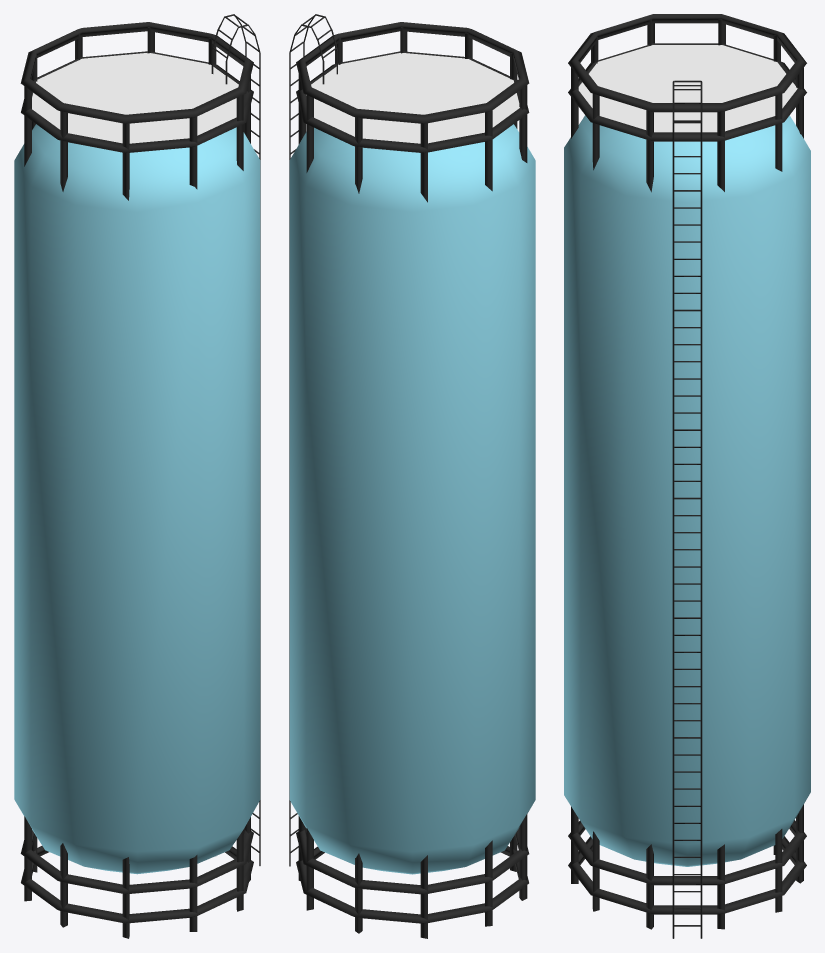
The model's file is FactorySilo.FBX.
3 renders of one model, left to right at view 1: azimuth 30°, elevation 25°; view 2: azimuth 150°, elevation 25°; view 3: azimuth 270°, elevation 25°, orthographic.
Visible parts, largest first — view 1: FactorySilio; view 2: FactorySilio; view 3: FactorySilio.
Part boxes in pixels (x1,y1,x2,y2): FactorySilio: (14, 14, 260, 938); FactorySilio: (289, 14, 535, 938); FactorySilio: (564, 14, 810, 938).
Bounding box in the file's own units: 31.63 × 115 × 30.26.
